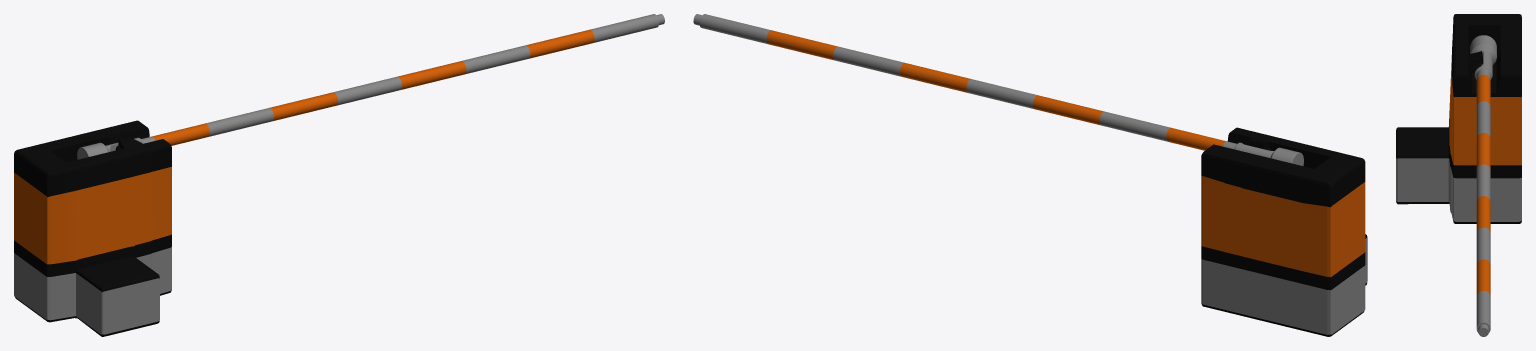
The picture shows the model from 3 angles, left to right: view 1: azimuth 30°, elevation 25°; view 2: azimuth 150°, elevation 25°; view 3: azimuth 270°, elevation 25°; orthographic projection. The views are drawn at different scales.
Parts seen in each view (by area): view 1: Train_Road_Block.001_Cylinder.004, Train_Road_Block_Rail.001_Cylinder.002; view 2: Train_Road_Block.001_Cylinder.004, Train_Road_Block_Rail.001_Cylinder.002; view 3: Train_Road_Block.001_Cylinder.004, Train_Road_Block_Rail.001_Cylinder.002.
Boxes of the visible parts, x1,y1,x2,y2 form: Train_Road_Block.001_Cylinder.004: [14, 120, 171, 336]; Train_Road_Block_Rail.001_Cylinder.002: [77, 14, 664, 159]; Train_Road_Block.001_Cylinder.004: [1201, 127, 1367, 336]; Train_Road_Block_Rail.001_Cylinder.002: [693, 14, 1303, 165]; Train_Road_Block.001_Cylinder.004: [1396, 14, 1521, 223]; Train_Road_Block_Rail.001_Cylinder.002: [1470, 35, 1496, 336].
Size of the model in its own units: 5.63 by 1.31 by 0.9653.
